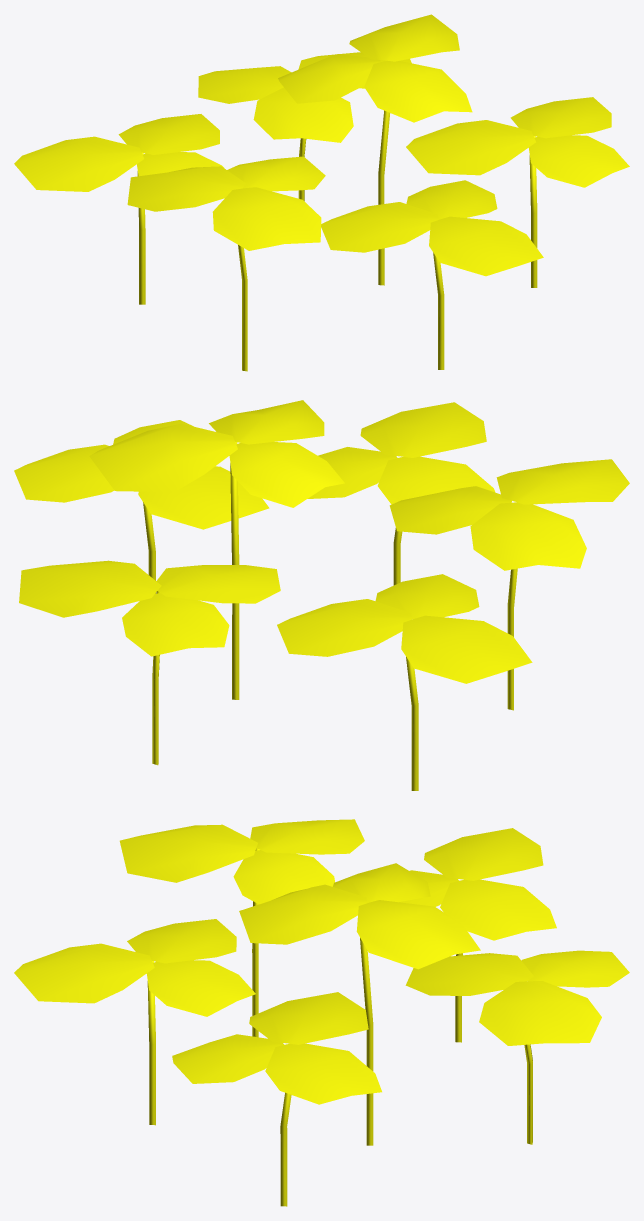
Rendered from Flower_1.fbx.
3 renders of one model, top to bottom at view 1: azimuth 30°, elevation 25°; view 2: azimuth 150°, elevation 25°; view 3: azimuth 270°, elevation 25°, orthographic. The views are drawn at different scales.
Parts seen in each view (by area): view 1: Flower_1; view 2: Flower_1; view 3: Flower_1.
Boxes of the visible parts, box(x1,y1,x2,y2) form: Flower_1: box(14, 14, 629, 371); Flower_1: box(14, 400, 629, 790); Flower_1: box(14, 819, 629, 1206).
Size of the model in its own units: 536 by 232 by 520.
